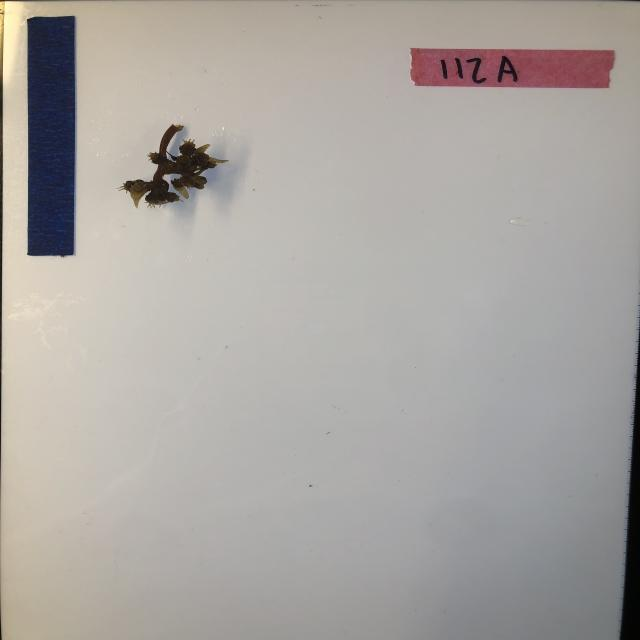index: (410, 48, 616, 92)
measure_label: (28, 13, 77, 258)
rachis_cluster: (119, 121, 230, 207)
